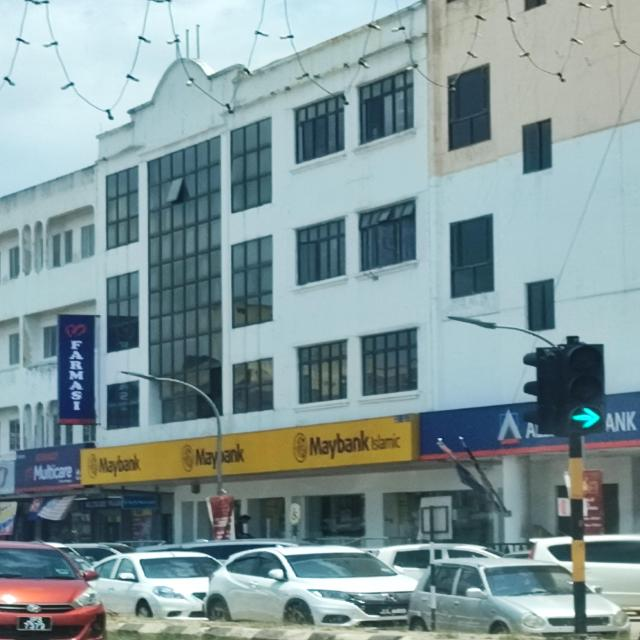car: (406, 558, 633, 640), (204, 545, 417, 629), (0, 539, 108, 640), (529, 533, 640, 629), (86, 550, 224, 620)
traffic light: (563, 343, 606, 434), (522, 347, 562, 436)
